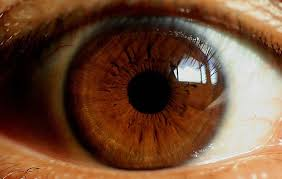pupil: (64, 23, 226, 169)
